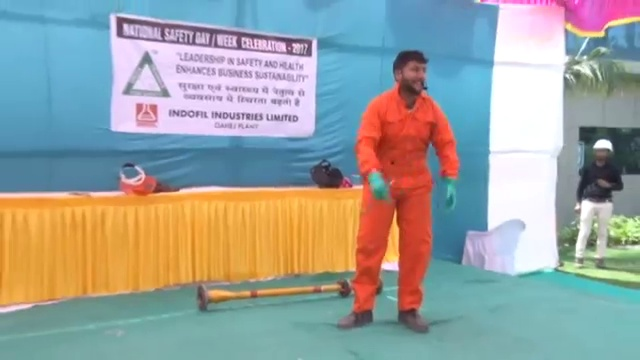helmet: (591, 136, 614, 153)
helmet_off: (392, 50, 429, 94)
helmet_on: (589, 134, 614, 167)
person: (337, 48, 463, 329), (572, 133, 626, 270)
